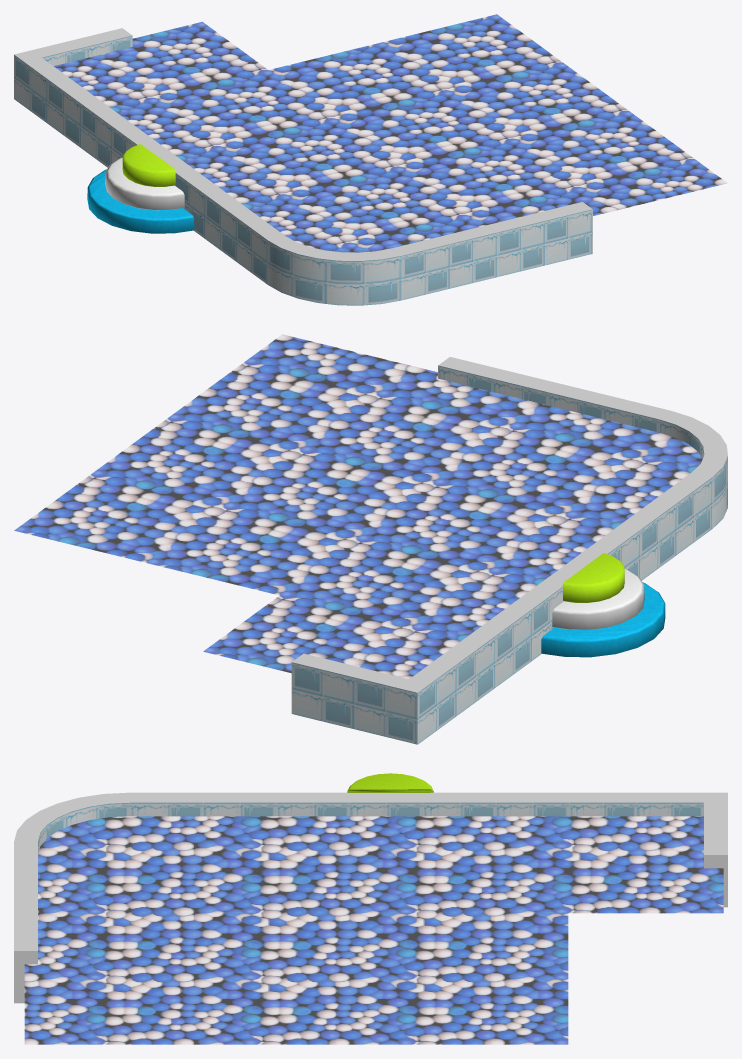
Rendered from ball_pool.dae.
3 views of the same model, one above another, from view 1: azimuth 30°, elevation 25°; view 2: azimuth 150°, elevation 25°; view 3: azimuth 270°, elevation 25° (orthographic). The views are drawn at different scales.
Parts seen in each view (by area): view 1: ball_pool; view 2: ball_pool; view 3: ball_pool.
Boxes of the visible parts, x1,y1,x2,y2 form: ball_pool: (14,14,727,305); ball_pool: (14,334,727,744); ball_pool: (14,773,727,1044).
Size of the model in its own units: 5578 by 548 by 6166.
Materials: 1 (1 with a texture image).
